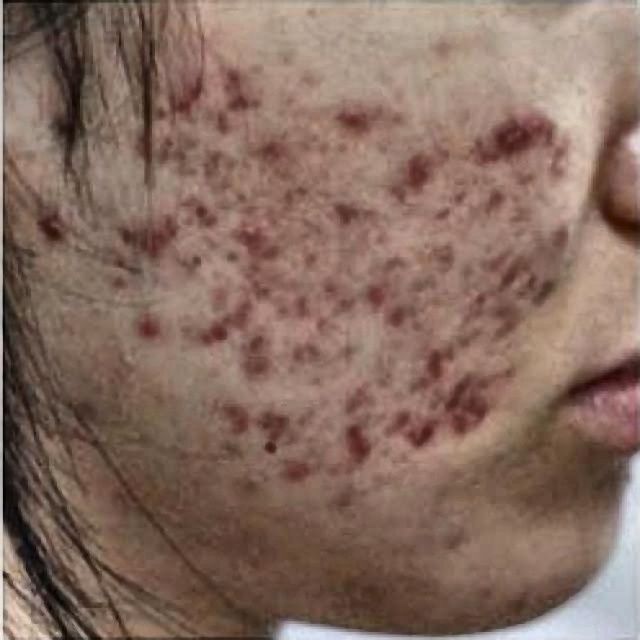papule: (479, 120, 534, 168), (34, 212, 88, 258), (328, 187, 375, 237), (227, 208, 274, 258), (128, 125, 175, 164), (230, 288, 264, 340), (182, 188, 223, 228), (392, 159, 440, 193), (159, 95, 205, 130), (248, 250, 298, 282), (197, 305, 230, 351), (335, 104, 377, 140), (543, 214, 578, 252), (339, 376, 372, 416), (341, 420, 372, 462), (208, 394, 242, 431), (421, 335, 449, 376), (253, 402, 284, 439), (520, 268, 551, 304), (316, 273, 347, 308), (482, 175, 514, 208), (180, 68, 214, 99), (223, 95, 262, 122), (139, 302, 160, 350), (252, 139, 288, 166), (527, 104, 556, 136), (134, 217, 159, 253), (205, 59, 244, 82), (479, 248, 511, 276), (355, 278, 386, 306), (406, 426, 439, 452), (449, 407, 476, 438), (150, 214, 184, 238), (453, 366, 481, 394), (386, 399, 414, 427), (240, 351, 270, 375), (279, 462, 308, 486), (494, 293, 516, 323), (388, 294, 411, 322), (462, 398, 489, 419), (155, 246, 165, 258)
